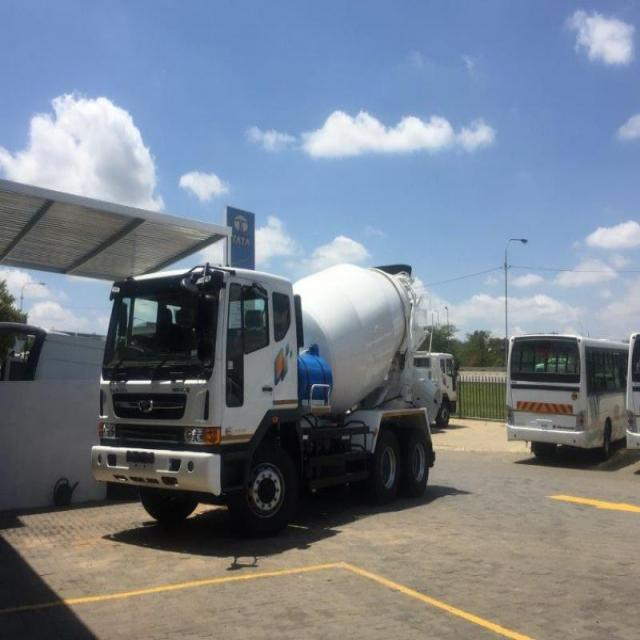Mixer Truck: (92, 264, 436, 532)
